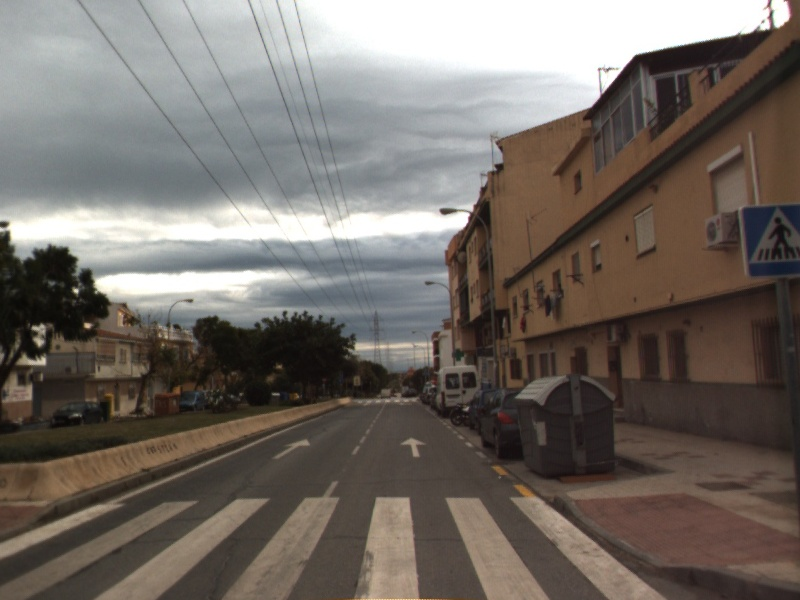STRAIGHT: (269, 436, 313, 461), (398, 435, 429, 459)
